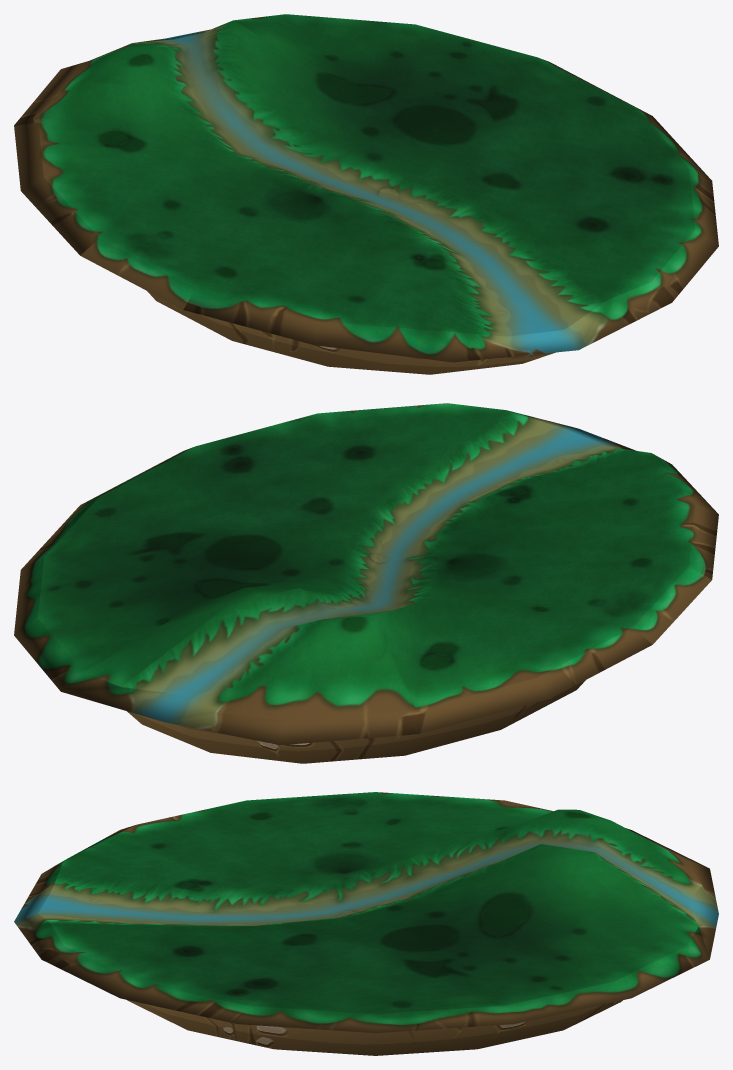
File: Land.fbx
3 renders of one model, top to bottom at view 1: azimuth 30°, elevation 25°; view 2: azimuth 150°, elevation 25°; view 3: azimuth 270°, elevation 25°, orthographic. The views are drawn at different scales.
Parts seen in each view (by area): view 1: polySurface650; view 2: polySurface650; view 3: polySurface650.
Part boxes in pixels (x1,y1,x2,y2): polySurface650: (14,14,718,374); polySurface650: (14,403,718,763); polySurface650: (14,792,718,1055).
Size of the model in its own units: 41.08 by 8.99 by 51.4.
